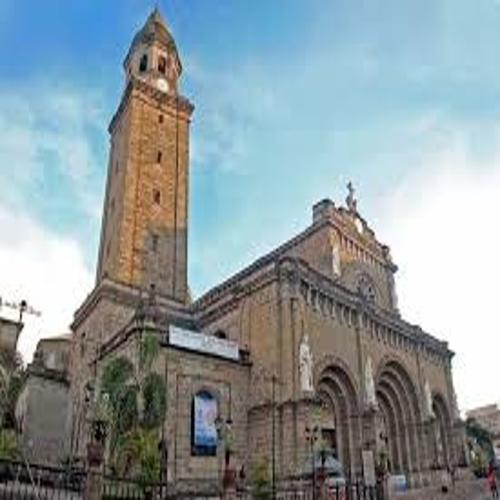Manila Cathedral Church: (54, 5, 473, 500)
